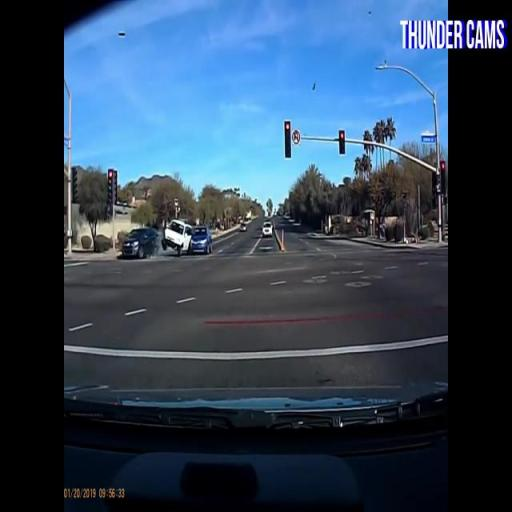小汽车: (119, 226, 160, 261), (261, 218, 274, 236)
小汽车撞小汽车: (162, 215, 212, 257)
